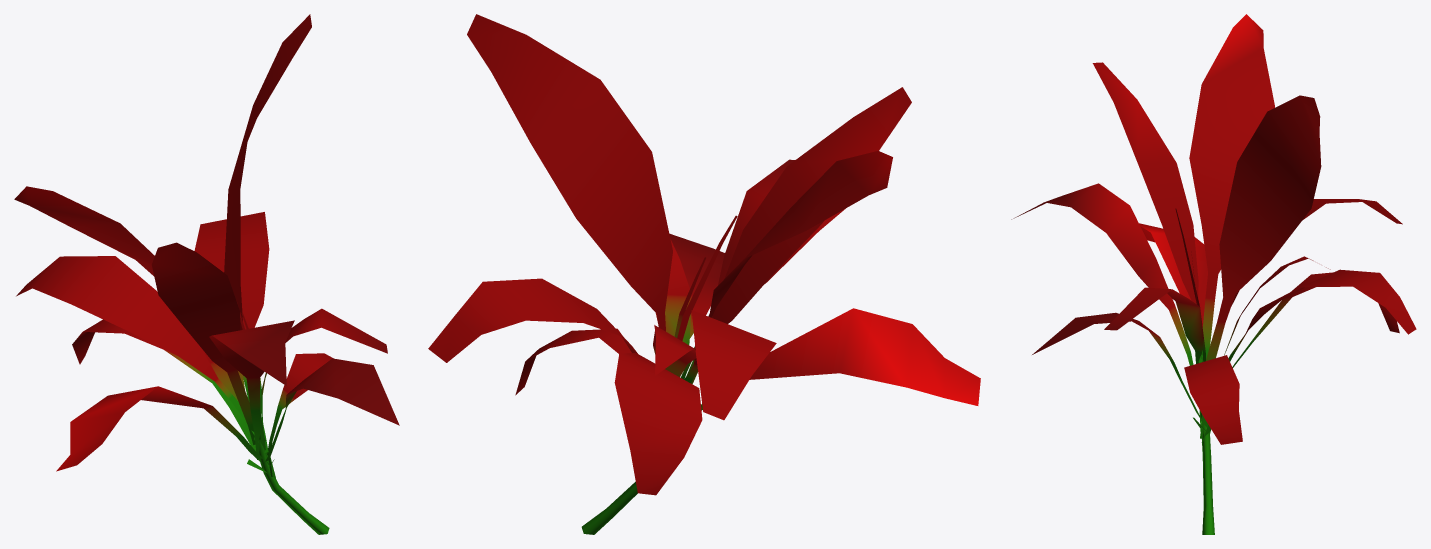
Rendered from Var1_LOD2.fbx.
The picture shows the model from 3 angles, left to right: view 1: azimuth 30°, elevation 25°; view 2: azimuth 150°, elevation 25°; view 3: azimuth 270°, elevation 25°; orthographic projection. The views are drawn at different scales.
Parts seen in each view (by area): view 1: _f880_Var1_LOD2; view 2: _f880_Var1_LOD2; view 3: _f880_Var1_LOD2.
Boxes of the visible parts, x1,y1,x2,y2 form: _f880_Var1_LOD2: (14, 14, 399, 534); _f880_Var1_LOD2: (428, 14, 980, 534); _f880_Var1_LOD2: (1011, 14, 1416, 534).
Size of the model in its own units: 26.66 by 34.53 by 27.85.
